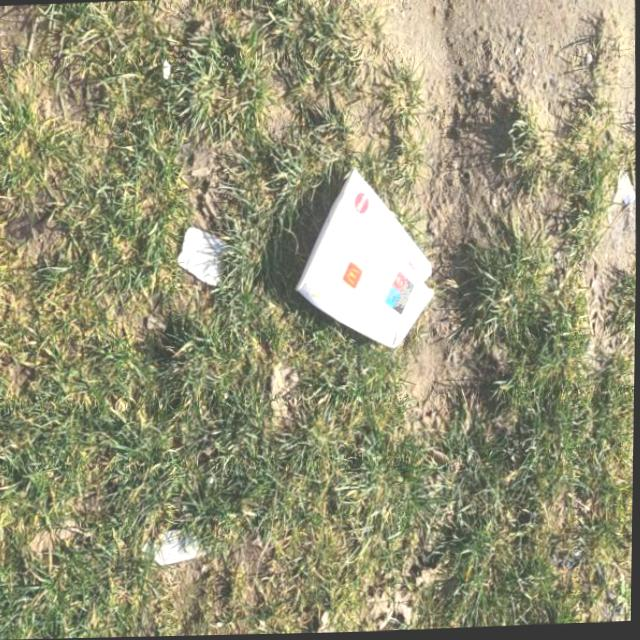Cup: (290, 165, 452, 362)
Paper: (176, 225, 230, 289), (139, 527, 209, 567)
Plastic: (623, 185, 636, 209)
